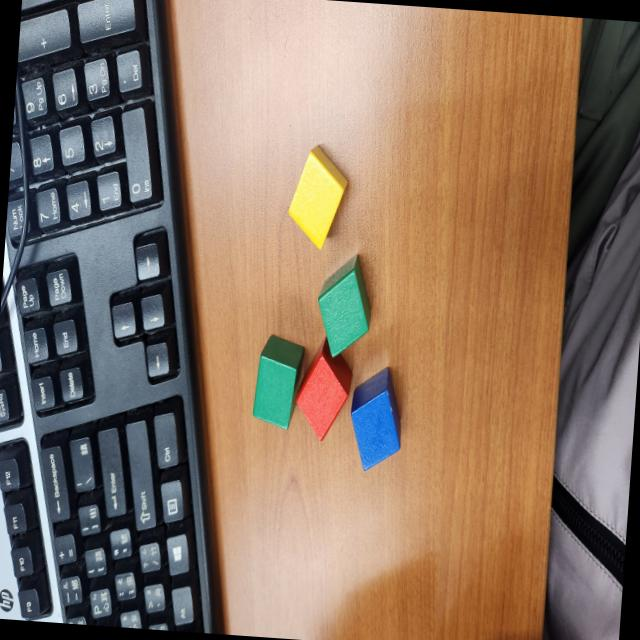blue: (351, 365, 401, 470)
green: (312, 251, 374, 360), (250, 331, 306, 430)
red: (290, 334, 354, 442)
yellow: (284, 143, 352, 254)
